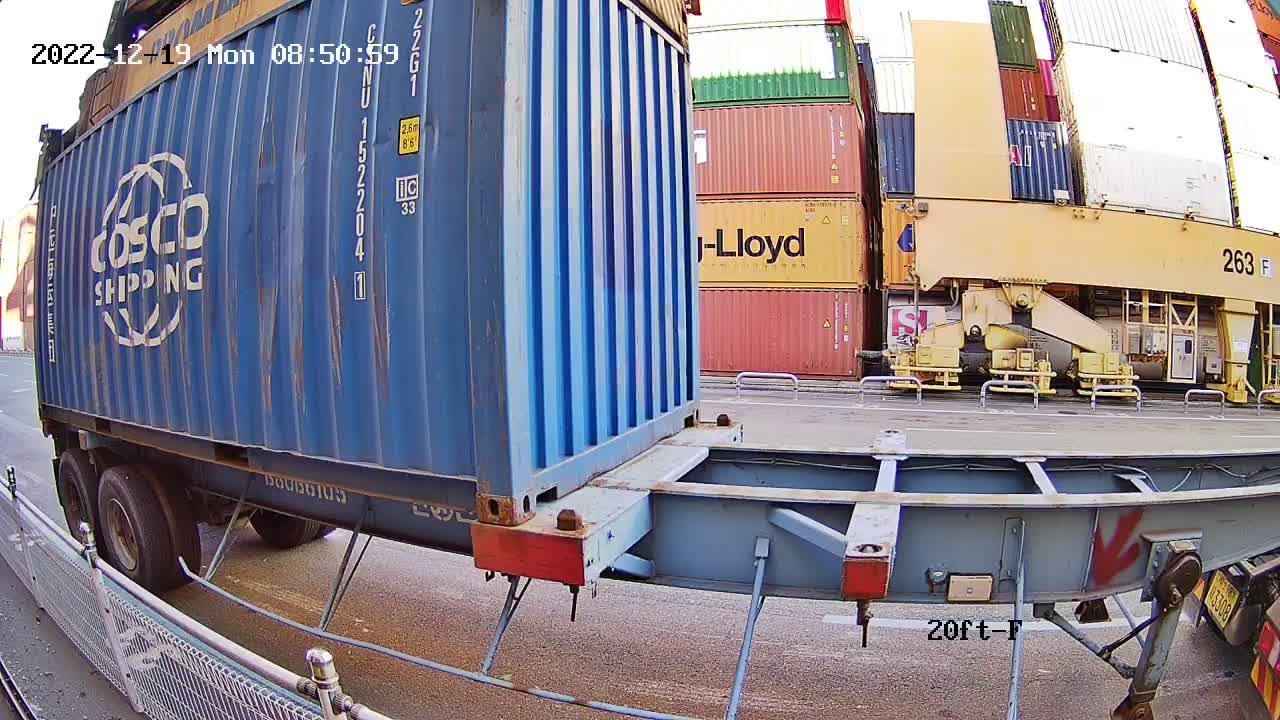Chassis: (543, 421, 740, 582)
Cone: (549, 508, 589, 581), (478, 523, 510, 573), (712, 410, 730, 430)
Hole_L: (513, 439, 566, 527)
Hole_R: (442, 456, 514, 525), (674, 382, 702, 432)
Tire: (96, 472, 151, 588), (58, 453, 100, 558)
